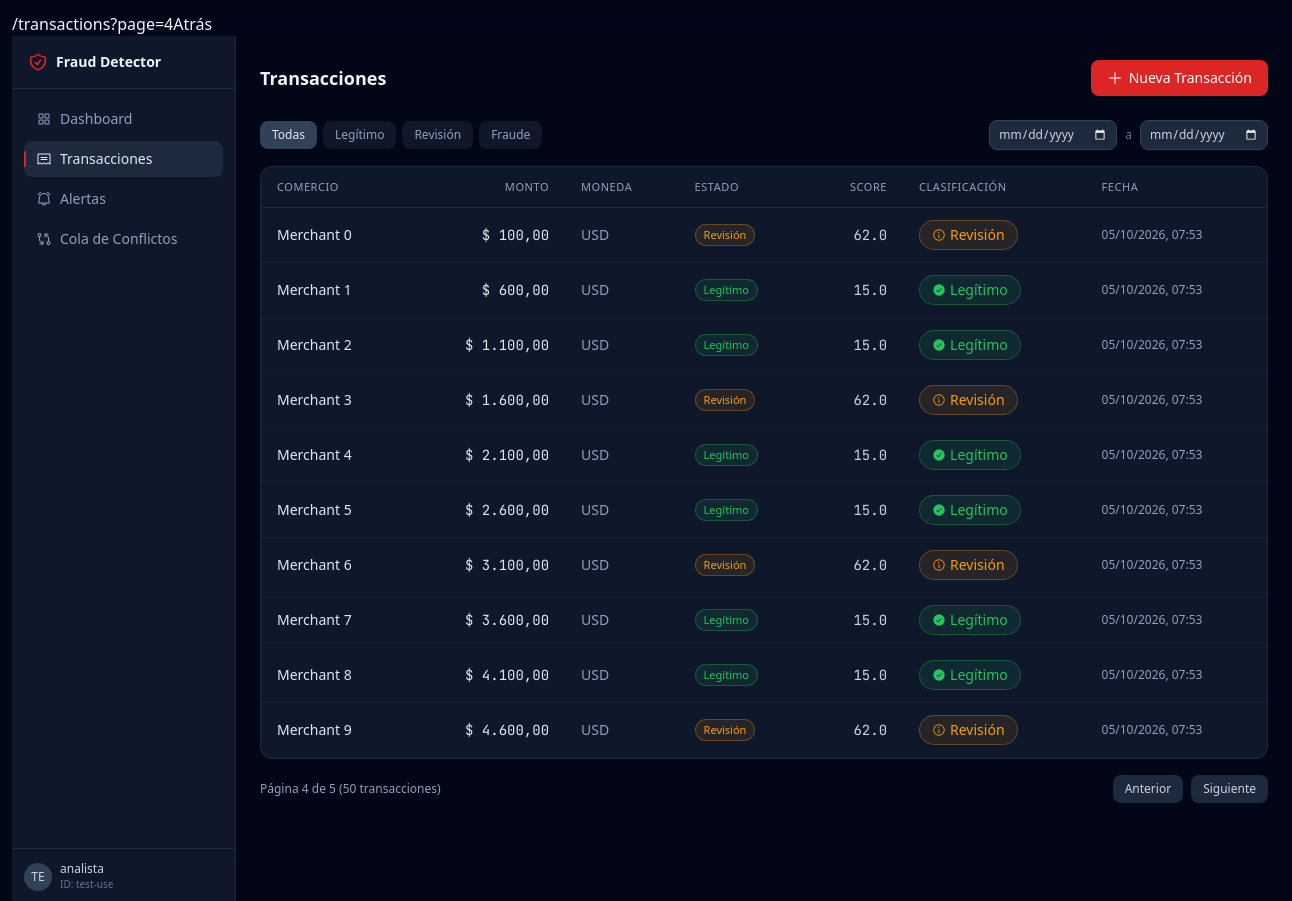
Scenario: TransactionsPage — a filter applied in the UI updates the URL › returns to the first page when a filter changes, instead of stranding it
The width and height of the screenshot is (1292, 901).
Expected: the text "Página 4 de 5 (50 transacciones)" is shown, left=260, top=781, right=441, bottom=797
Click the button "Revisión".
click(438, 135)  # box left=402, top=121, right=473, bottom=149
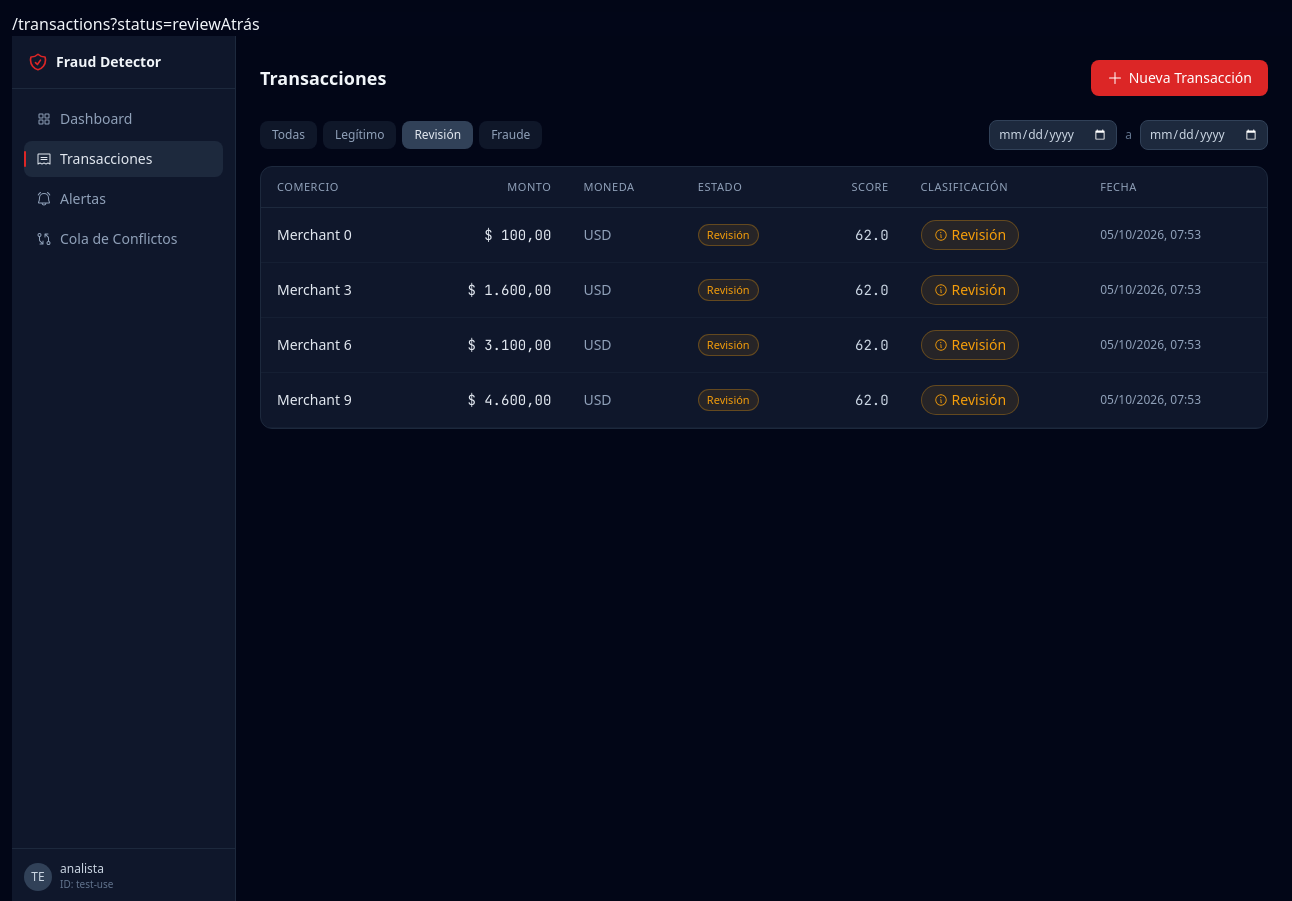
Expected: the text "Página" is gone
